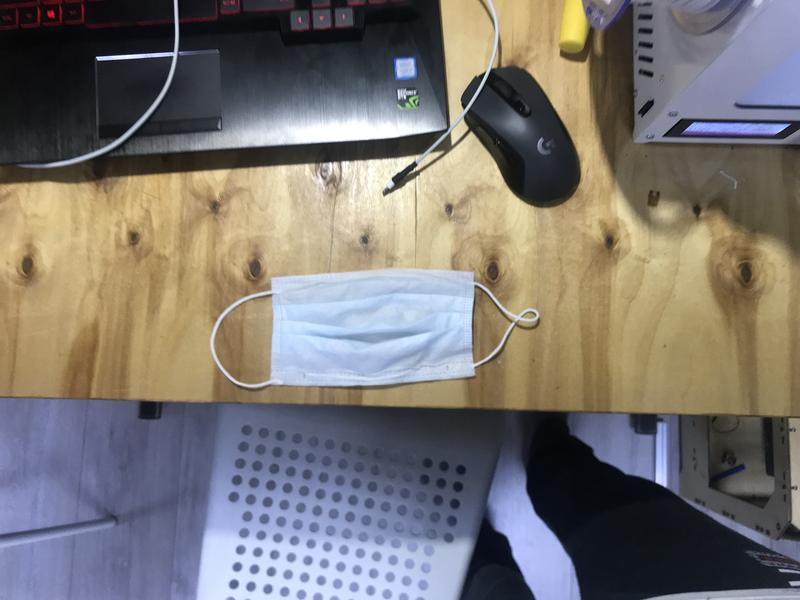medical_mask: (211, 273, 537, 389)
